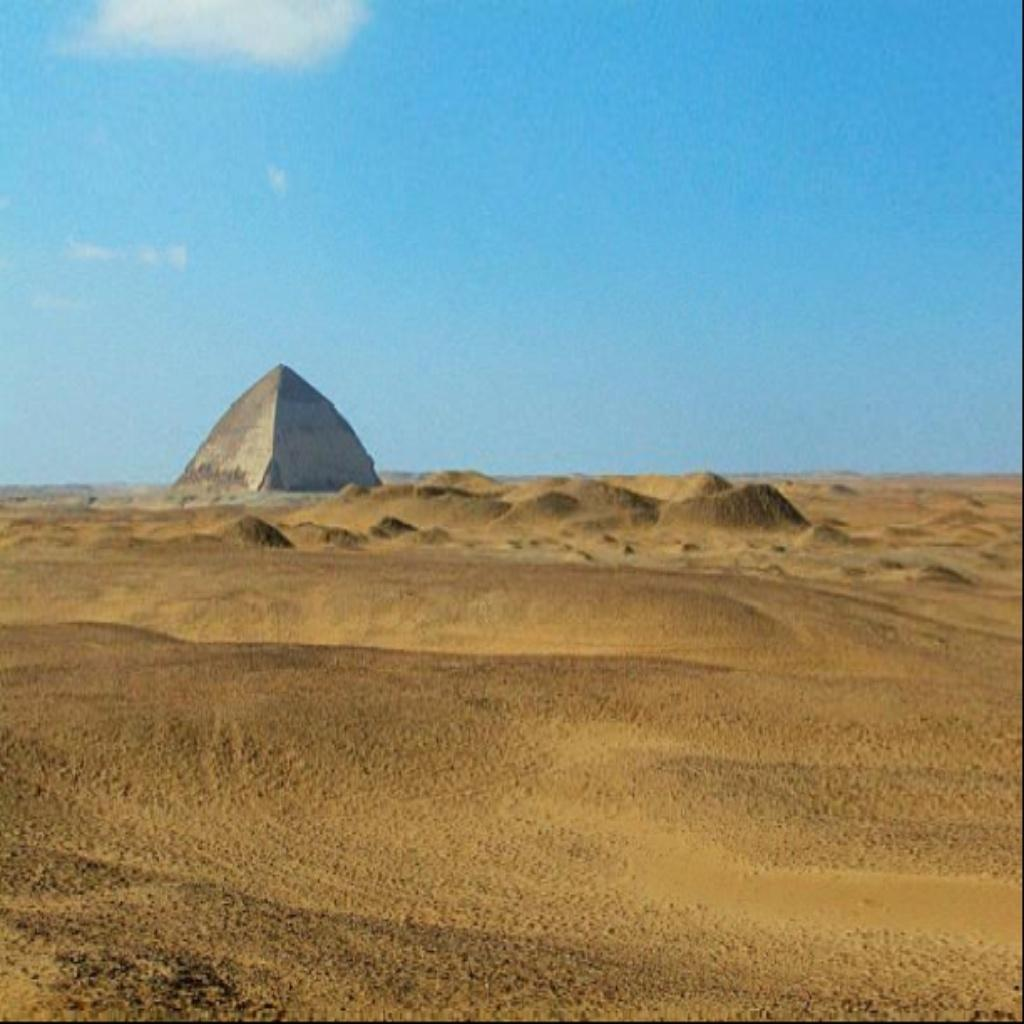Bent Pyramid of King Sneferu: (169, 360, 383, 498)
